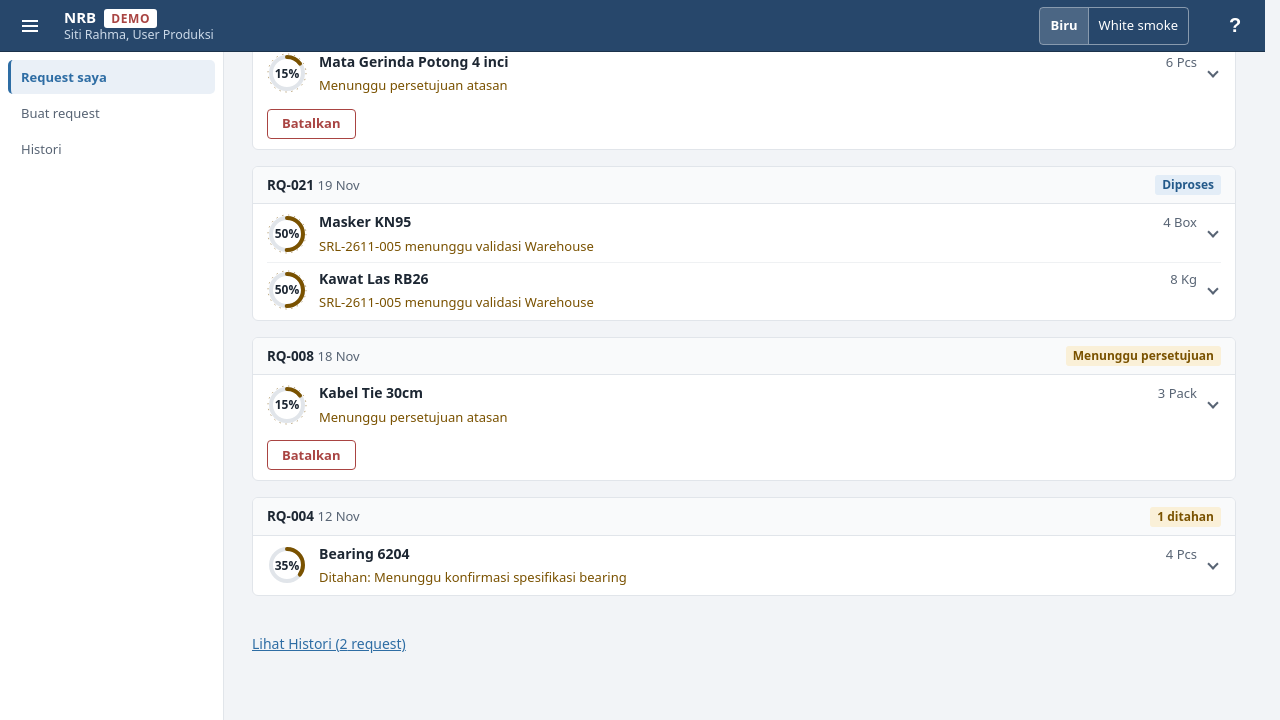
Test: Request saya vs Histori (data contoh) › Request saya menampilkan tautan ke Histori dengan jumlahnya
(page scrolled)
Expected: the button "Request saya" is shown, [8, 60, 215, 94]
Click the button "Lihat Histori (2 request)" at (329, 644), box [252, 624, 406, 664]
(page scrolled)
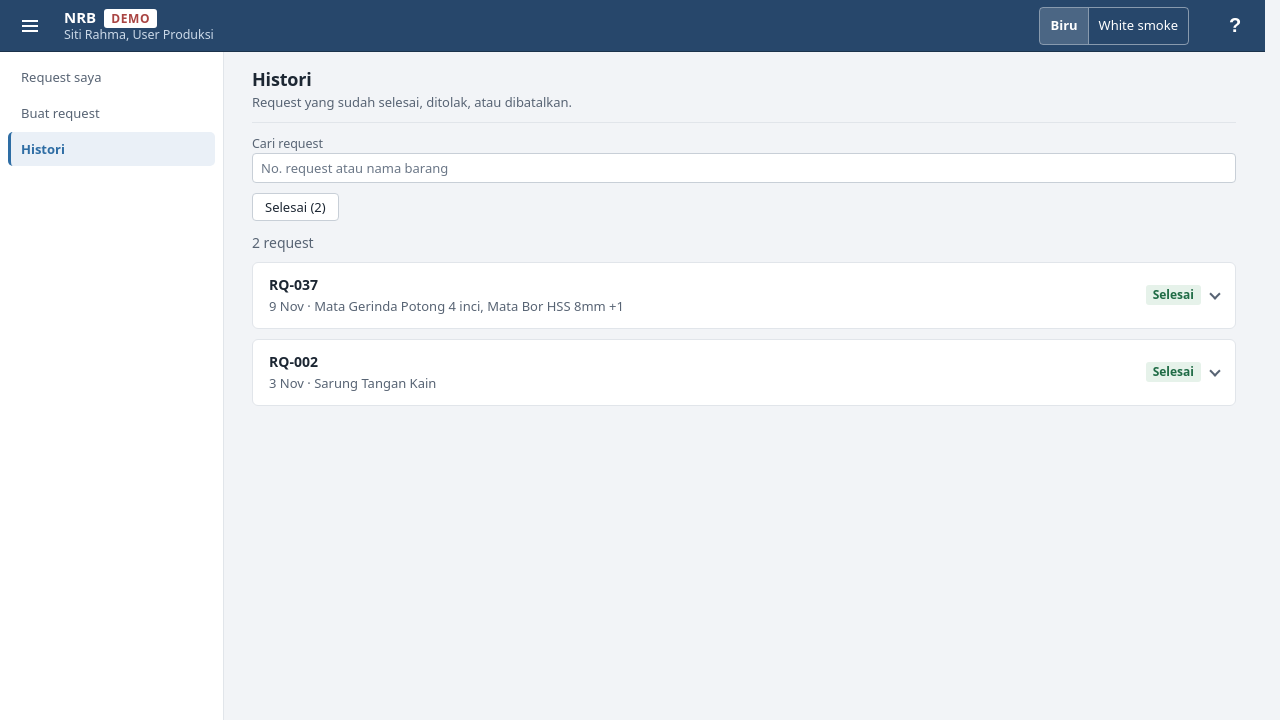
Now the list named "histori" is shown, box [252, 262, 1236, 406]
